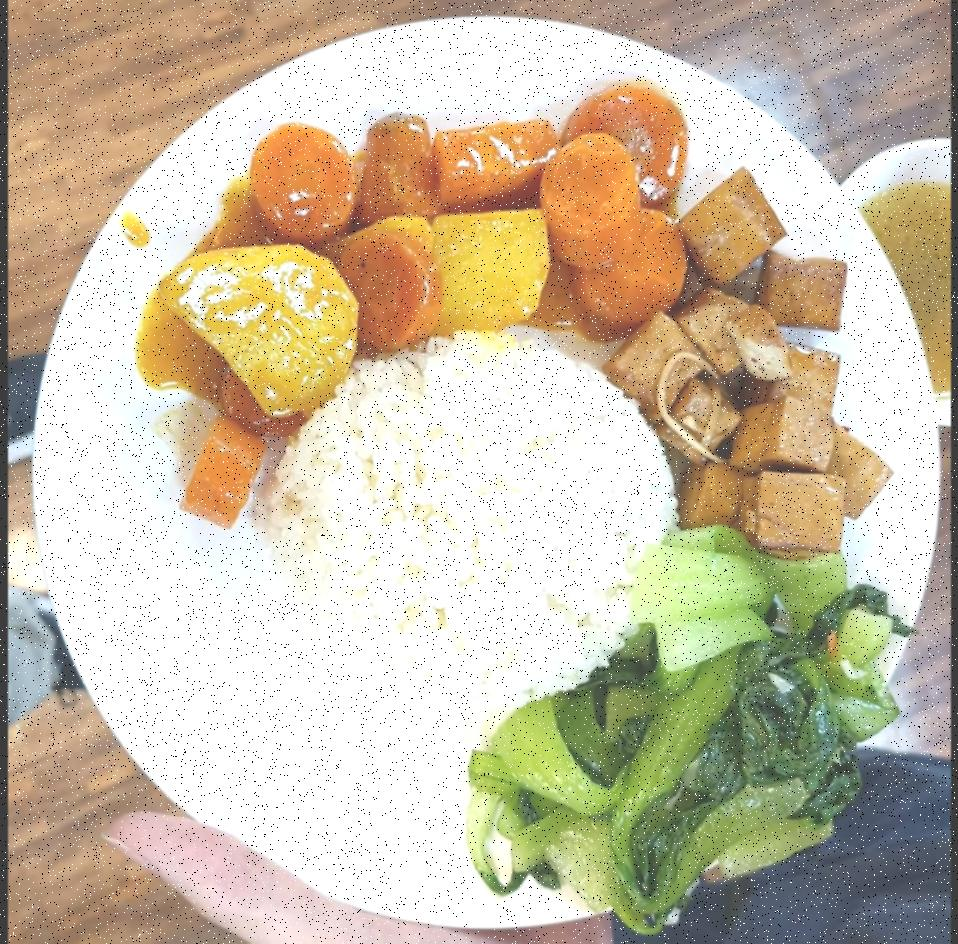plate: (38, 6, 930, 917)
side dish: (157, 73, 686, 428), (501, 542, 909, 918), (619, 184, 900, 574)
white rice: (270, 330, 685, 715)
